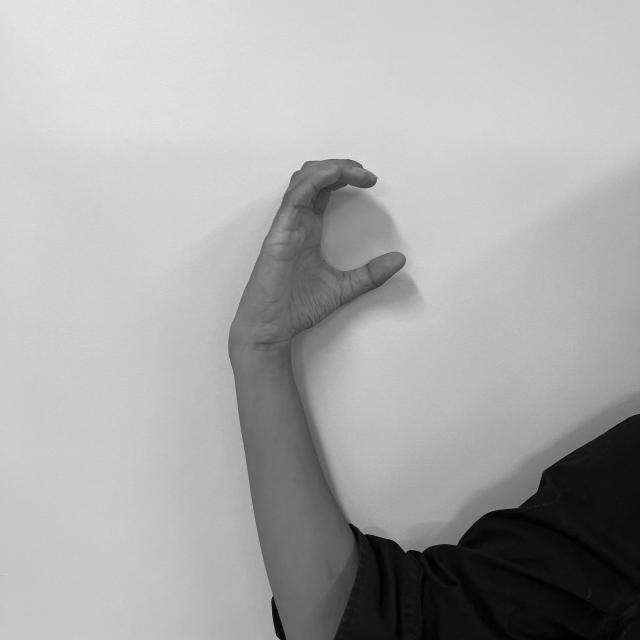Letra C: (221, 150, 411, 352)
